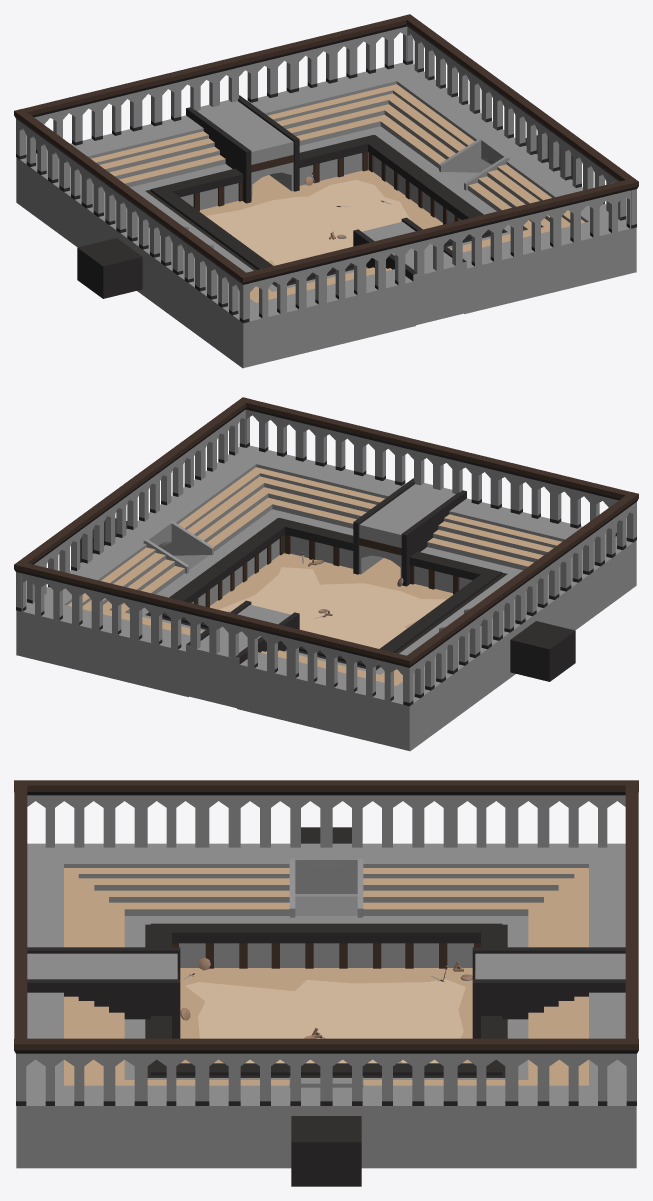
File: Dest_Arena_Field.FBX
3 renders of one model, top to bottom at view 1: azimuth 30°, elevation 25°; view 2: azimuth 150°, elevation 25°; view 3: azimuth 270°, elevation 25°, orthographic. The views are drawn at different scales.
Visible parts, largest first — view 1: Plane001; view 2: Plane001; view 3: Plane001.
Boxes of the visible parts, x1=… form: Plane001: x1=14, y1=14, x2=638, y2=368; Plane001: x1=14, y1=397, x2=638, y2=751; Plane001: x1=14, y1=780, x2=638, y2=1186.
Size of the model in its own units: 469 by 86.95 by 393.
